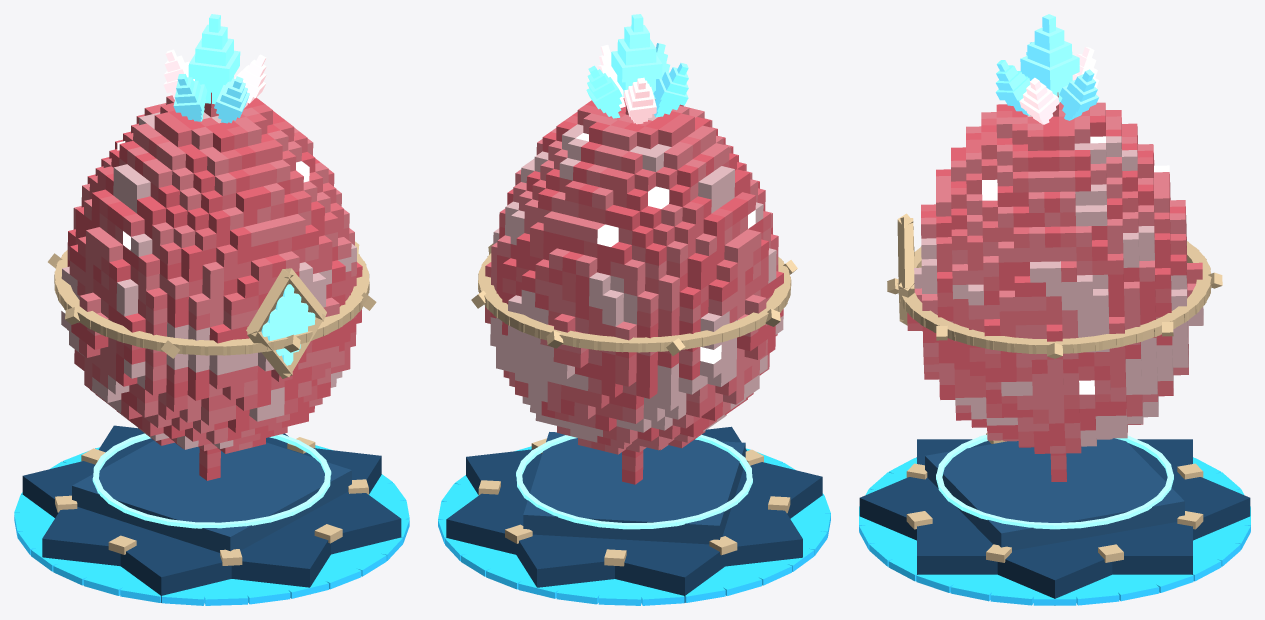
Rendered from egg_raro_coral.glb.
The picture shows the model from 3 angles, left to right: view 1: azimuth 30°, elevation 25°; view 2: azimuth 150°, elevation 25°; view 3: azimuth 270°, elevation 25°; orthographic projection.
Visible parts, largest first — view 1: shell_geo, root_geo, crown_geo, egg_geo, emblem_geo; view 2: shell_geo, root_geo, crown_geo, egg_geo; view 3: shell_geo, root_geo, crown_geo, egg_geo, emblem_geo.
Boxes of the visible parts, x1,y1,x2,y2 form: shell_geo: [61, 92, 362, 480]; root_geo: [14, 425, 409, 605]; crown_geo: [163, 14, 266, 123]; egg_geo: [48, 241, 376, 358]; emblem_geo: [246, 268, 326, 378]; shell_geo: [485, 98, 783, 484]; root_geo: [438, 426, 830, 605]; crown_geo: [586, 14, 688, 124]; egg_geo: [471, 243, 797, 355]; shell_geo: [907, 92, 1203, 481]; root_geo: [859, 433, 1250, 605]; crown_geo: [995, 14, 1099, 124]; egg_geo: [887, 241, 1222, 358]; emblem_geo: [897, 213, 914, 325].
Size of the model in its own units: 5.54 by 7.9 by 5.54.
